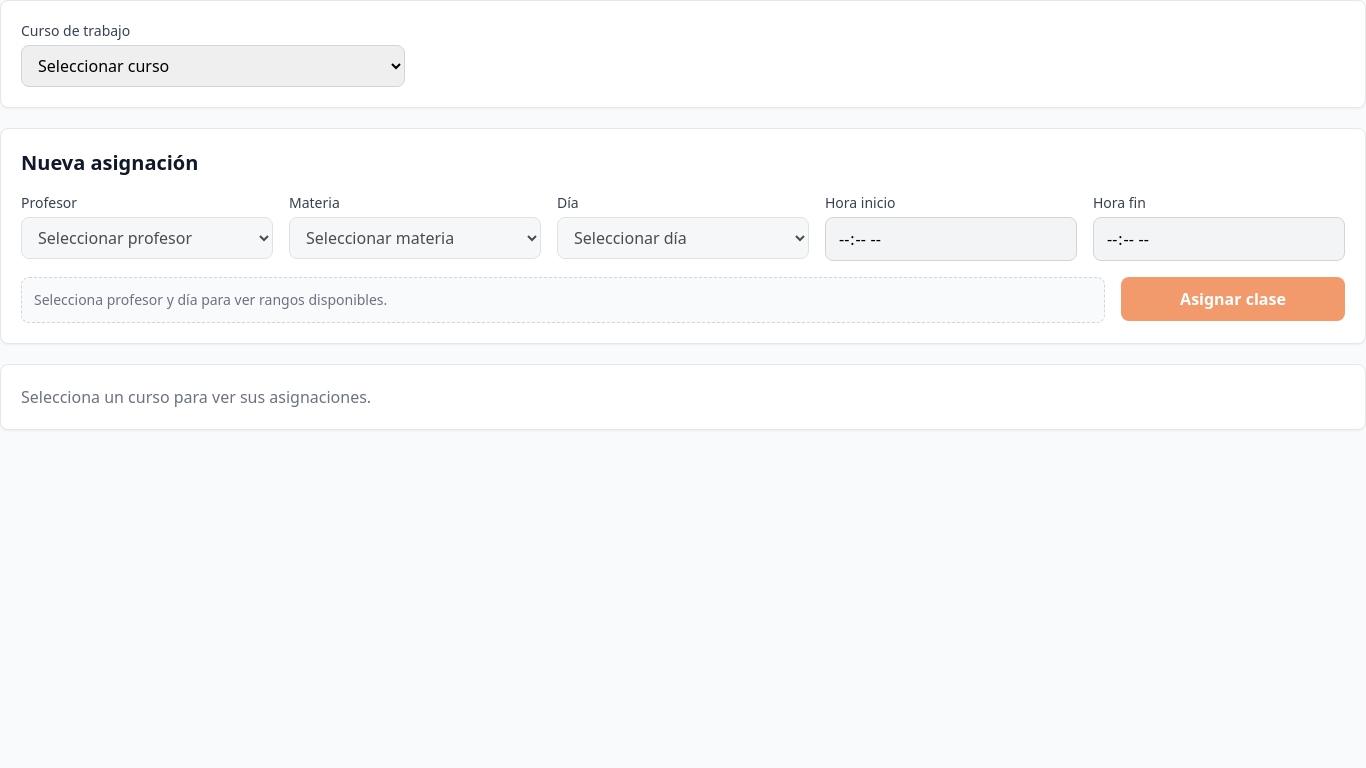
Test case: flujo de asignaciones académicas › edita la asignación y excluye su id al consultar disponibilidad
The image size is (1366, 768).
Select "5A (Mañana)" in the dropdown below "Curso de trabajo" at (213, 66), box [21,45,405,87]
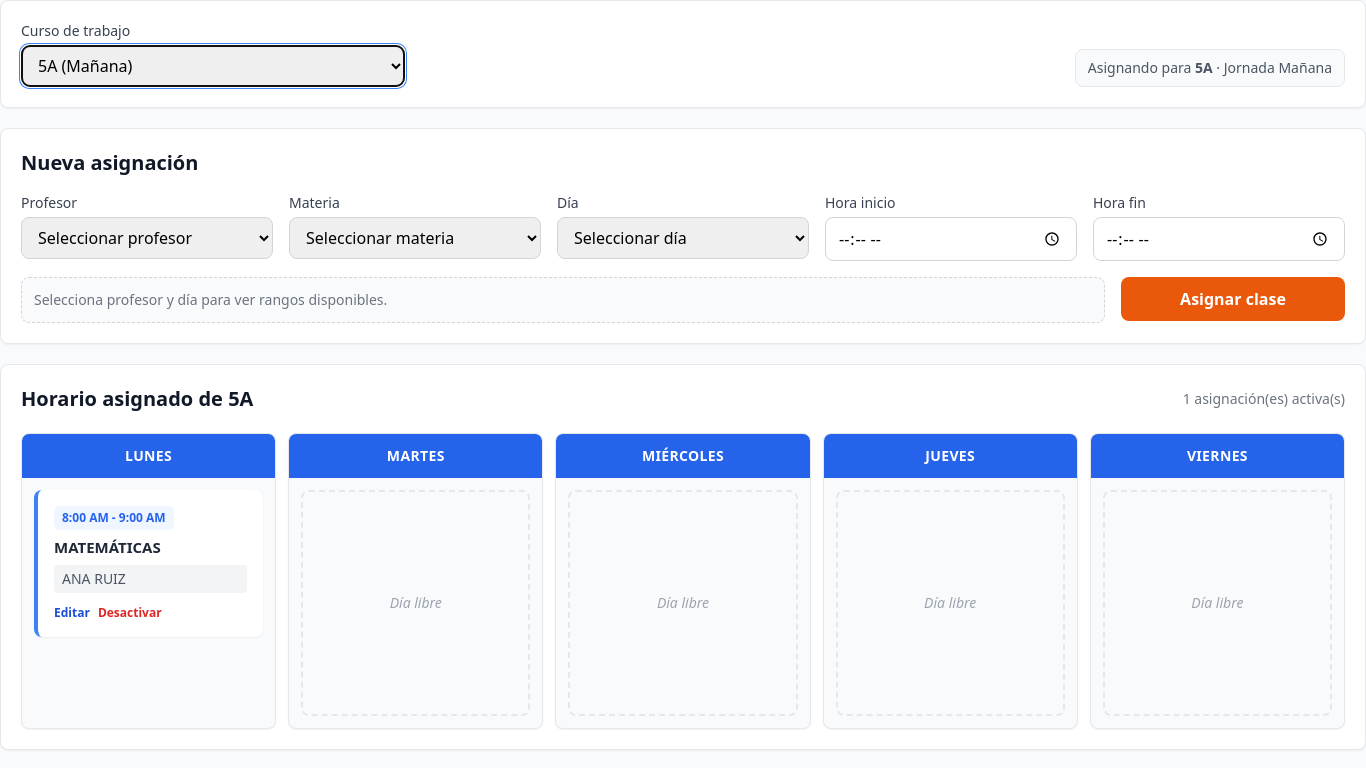
Click the button "Editar" at (72, 613), box [54,605,90,621]
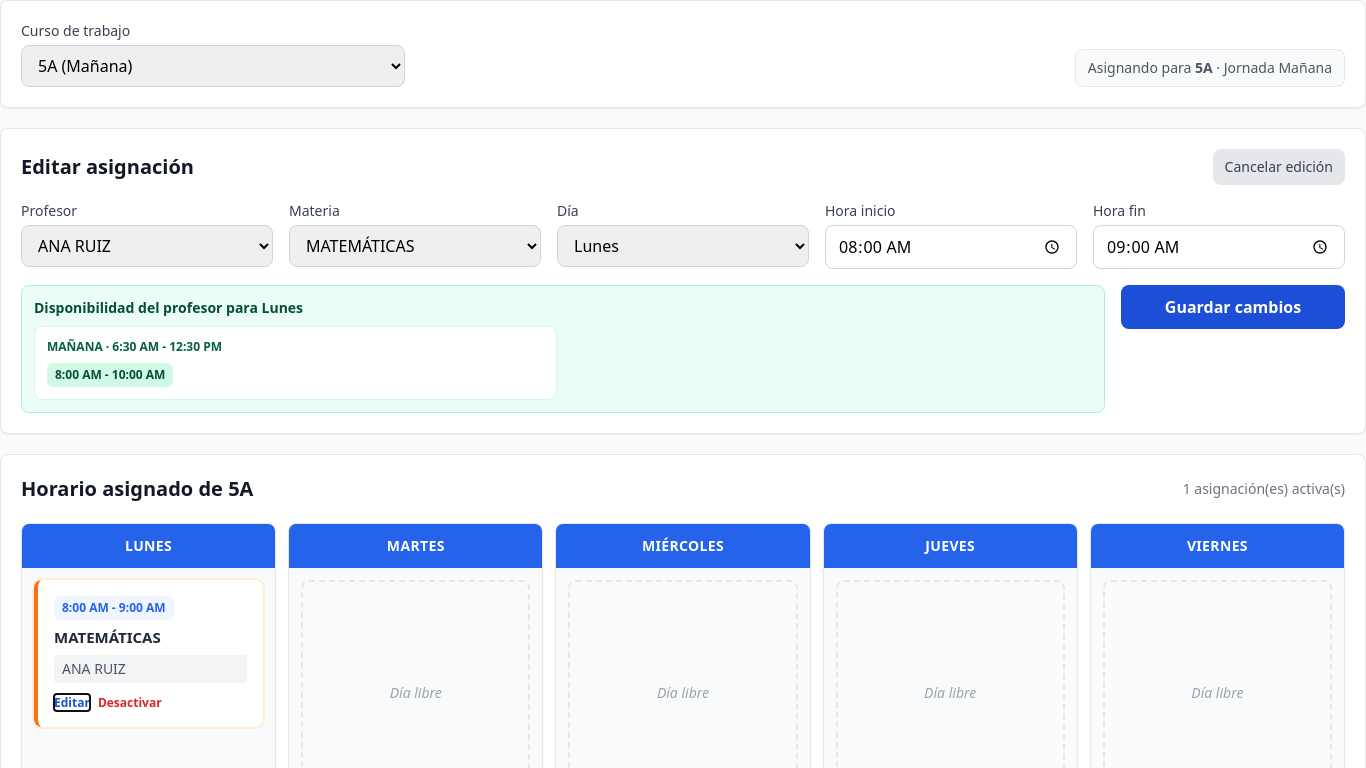
Click the button "Guardar cambios" at (1233, 307), box [1121,285,1345,329]
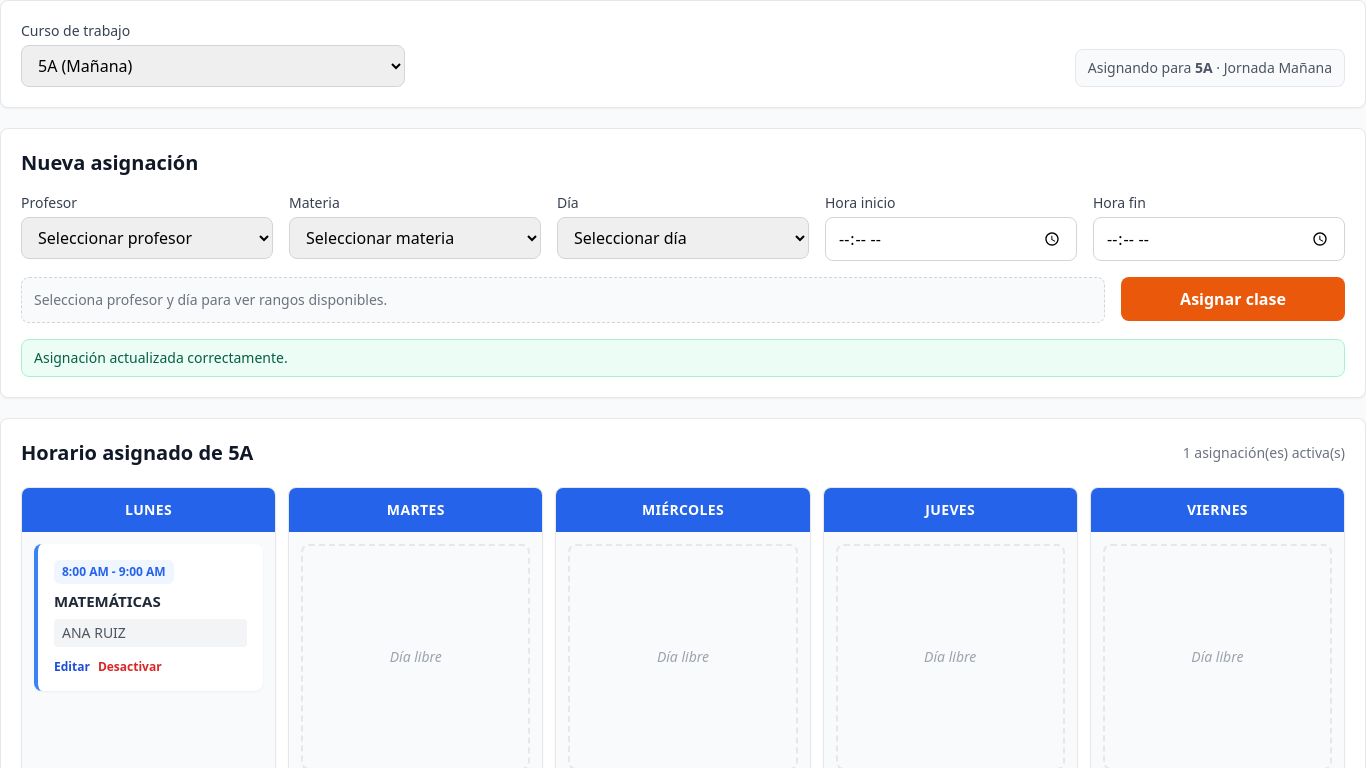
Check: the text "Asignación actualizada correctamente." is shown, box [21,339,1345,377]
